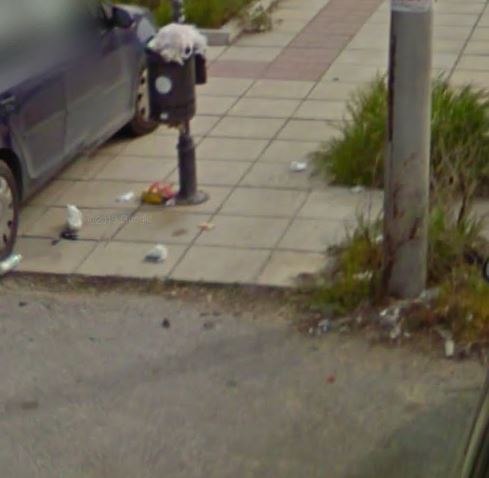trash: (327, 250, 459, 352), (116, 170, 194, 209), (51, 200, 90, 247), (140, 239, 177, 265), (1, 248, 24, 277), (289, 158, 310, 175)
